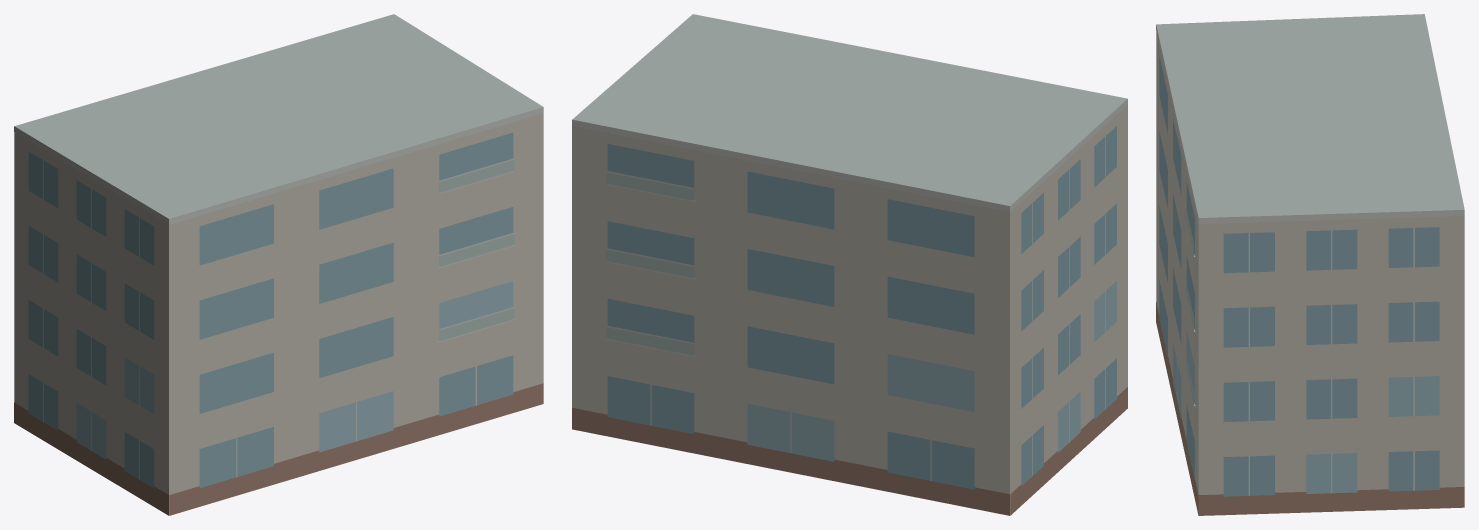
Rendered from survey-upis-32809420.glb.
3 renders of one model, left to right at view 1: azimuth 30°, elevation 25°; view 2: azimuth 150°, elevation 25°; view 3: azimuth 270°, elevation 25°, orthographic. The views are drawn at different scales.
Visible parts, largest first — view 1: survey-upis-32809420.tmp; view 2: survey-upis-32809420.tmp; view 3: survey-upis-32809420.tmp.
Boxes of the visible parts, <box> form: survey-upis-32809420.tmp: <box>14,14,543,515</box>; survey-upis-32809420.tmp: <box>572,14,1127,515</box>; survey-upis-32809420.tmp: <box>1156,14,1464,515</box>.
Size of the model in its own units: 17.93 by 12.2 by 11.47.
